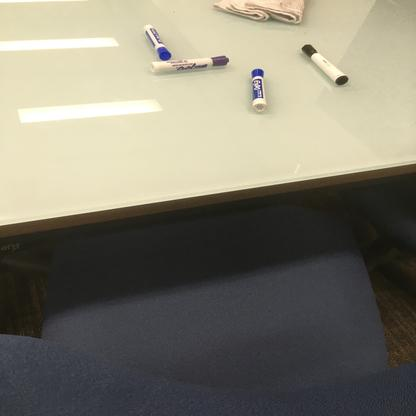expo_marker: (297, 42, 357, 89), (145, 53, 232, 79), (142, 22, 173, 63), (246, 64, 270, 116)
